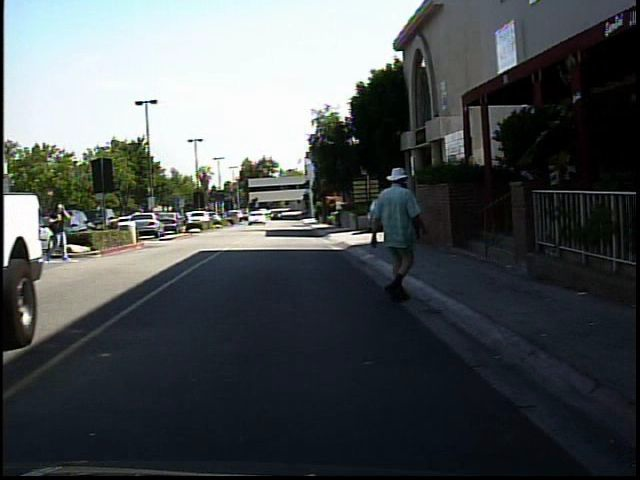person: (368, 155, 431, 308), (53, 196, 74, 267), (180, 205, 195, 229)
